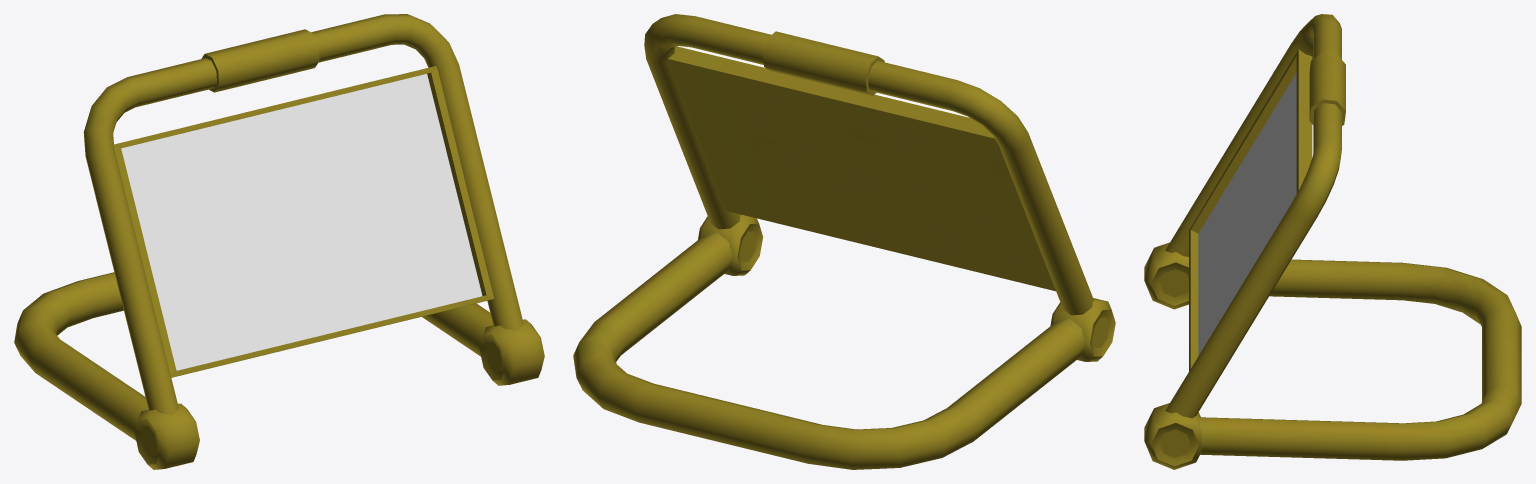
File: projecteur.glb
3 views of the same model, side by side, from view 1: azimuth 30°, elevation 25°; view 2: azimuth 150°, elevation 25°; view 3: azimuth 270°, elevation 25° (orthographic). The views are drawn at different scales.
Visible parts, largest first — view 1: Work_Light_1; view 2: Work_Light_1; view 3: Work_Light_1.
Boxes of the visible parts, <box> form: Work_Light_1: <box>14,14,544,469</box>; Work_Light_1: <box>573,14,1115,469</box>; Work_Light_1: <box>1144,14,1521,469</box>.
Size of the model in its own units: 0.3085 by 0.2466 by 0.2747.
2 materials, 1 textured.
